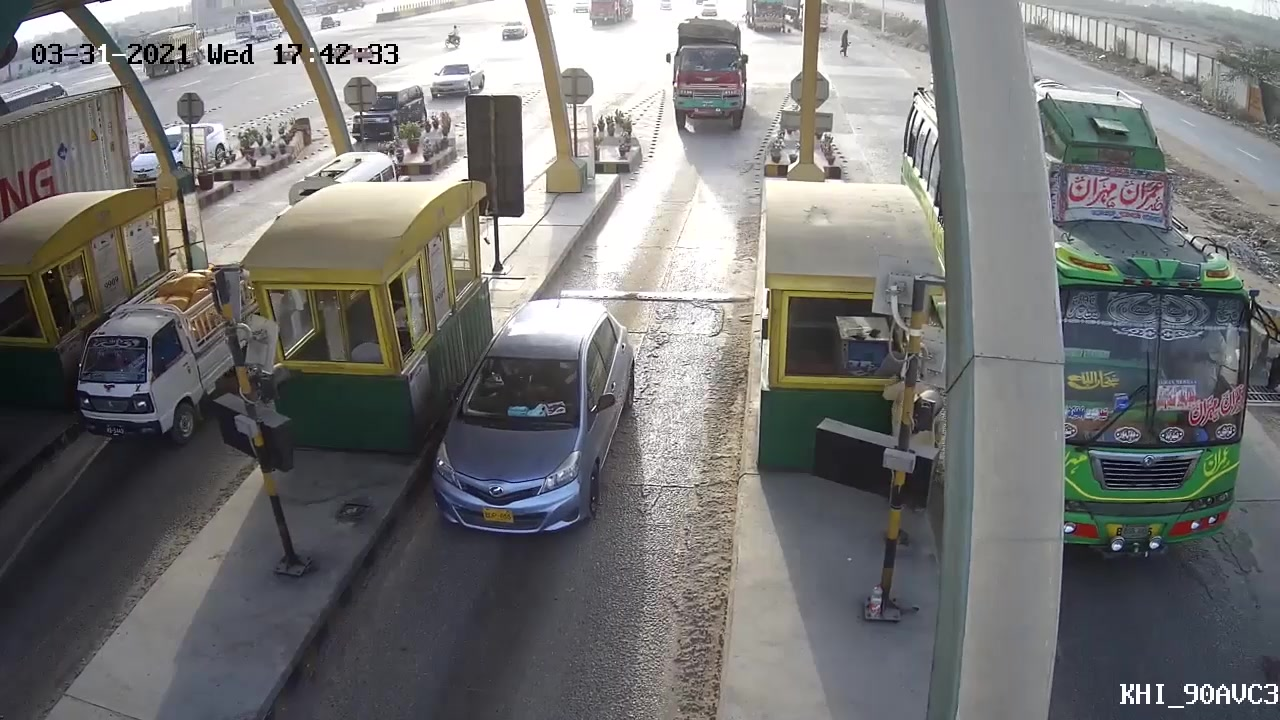F1: (426, 299, 639, 547)
F5: (668, 15, 753, 133)
